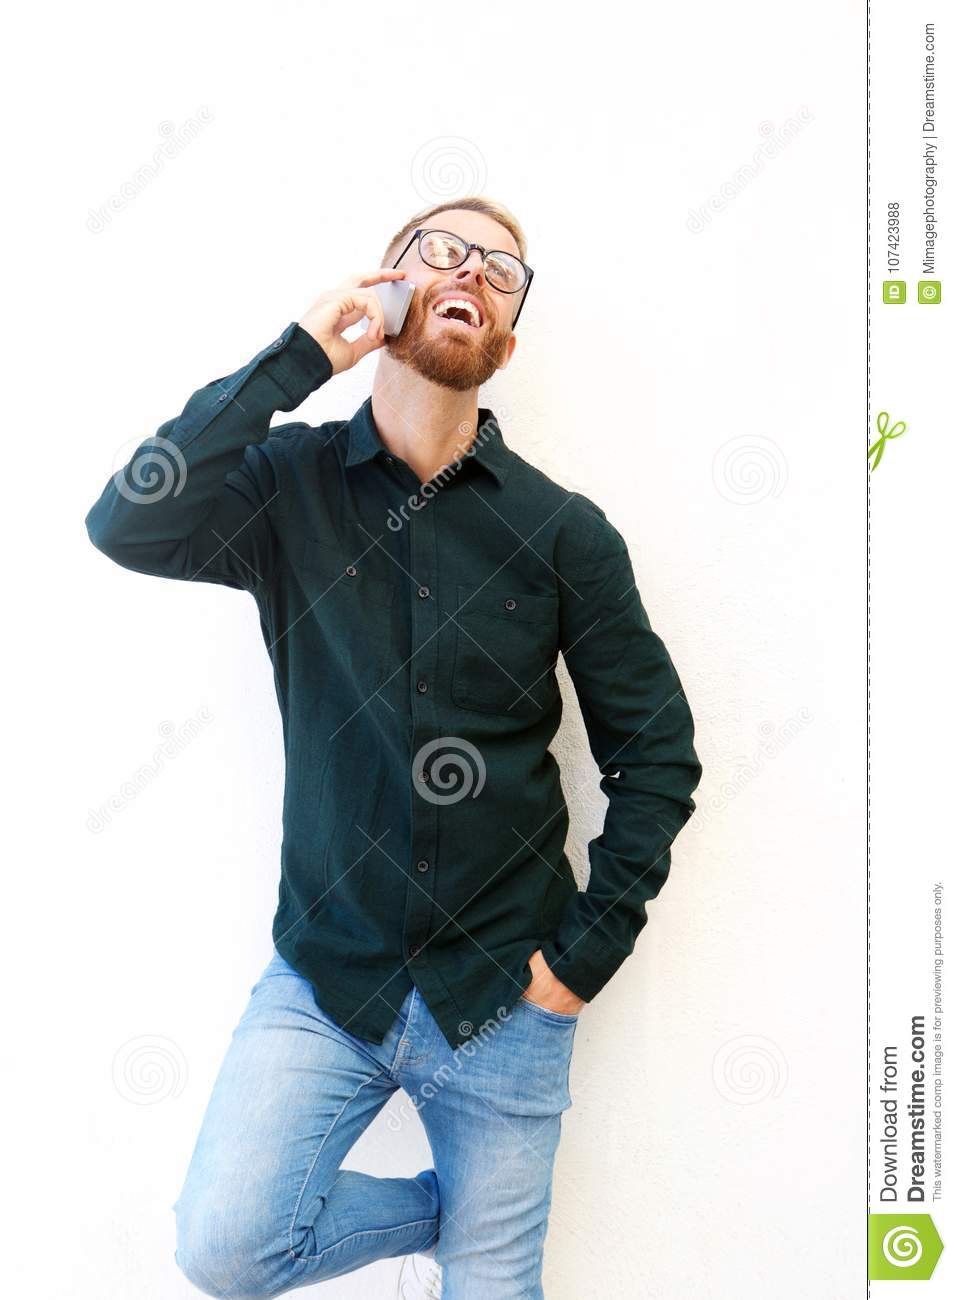phone: (349, 270, 418, 338)
talk: (299, 230, 521, 380)
